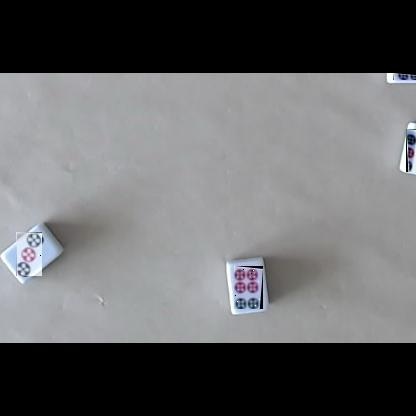3p: (16, 232, 42, 276)
6p: (234, 266, 263, 309)
8p: (393, 73, 416, 80)
9p: (406, 129, 416, 172)
